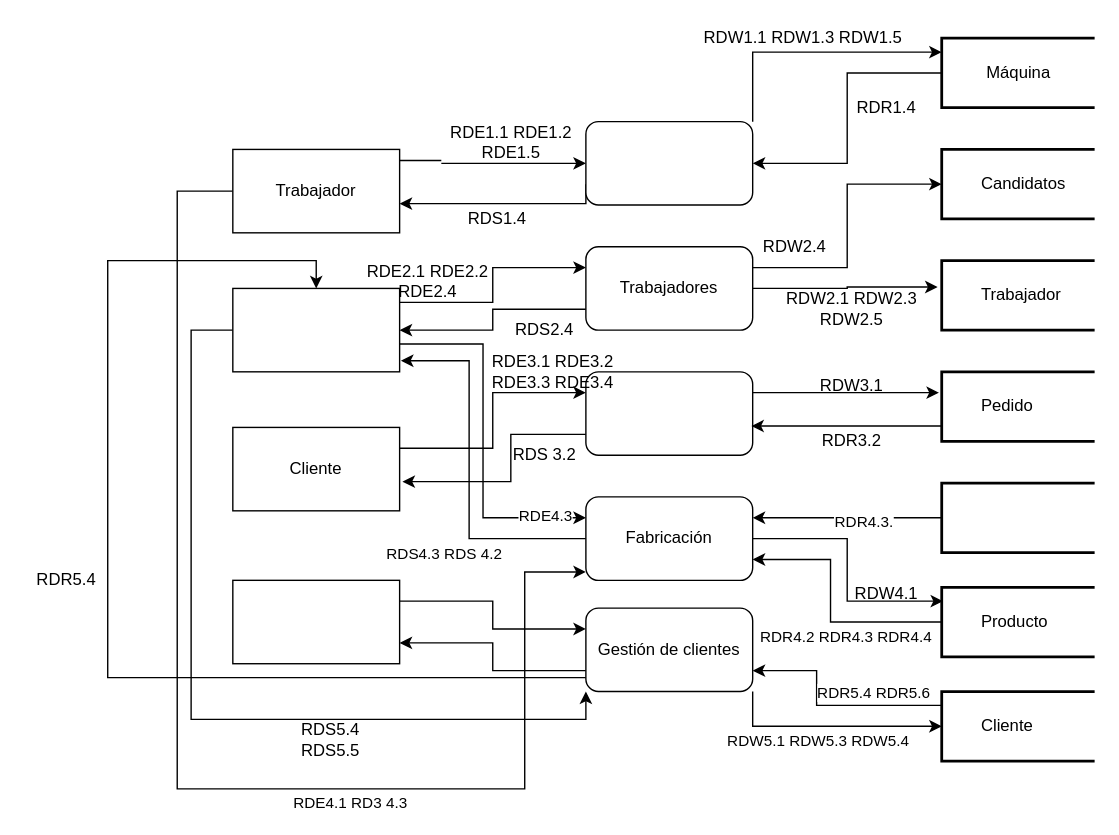
Image size: 1119x835. Some labels were removed from this diagram. The shapes that lost their labels are listed below. From the top down, each one's centre as x and y in pixels, then its label:
At pixel 668 162: "Maquinaria".
At pixel 315 329: "Administrador".
At pixel 668 412: "Pedidos".
At pixel 1017 517: "Pieza".
At pixel 315 621: "Usuario".
